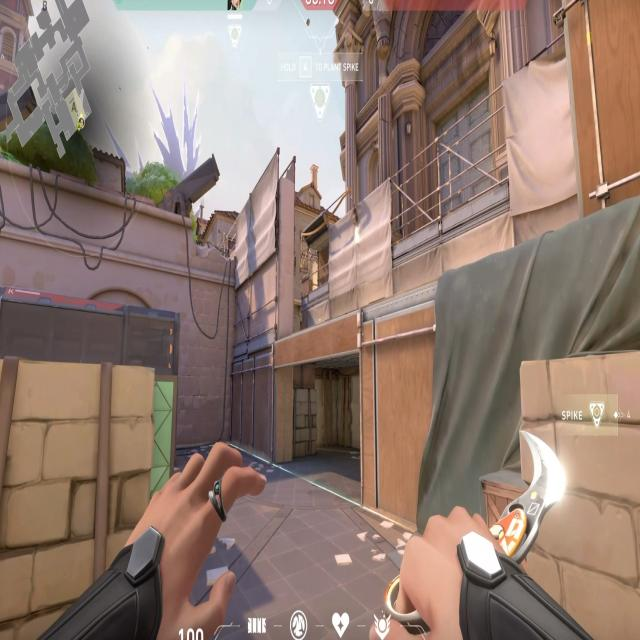A_Heaven_Box: (225, 146, 300, 347)
A_Hell: (266, 308, 373, 511)
